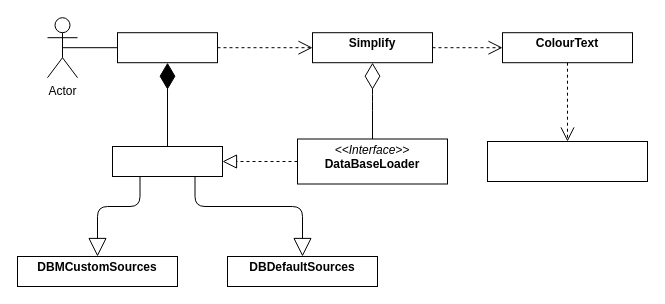
Image size: 665x304. Some labels were removed from this diagram. Here are the shapes that lost their labels. From the top down, the centre of each, then its label:
the point at 167,47: Menu
the point at 167,161: DataBase
the point at 567,161: <<Enumeration>> ConsoleColour
